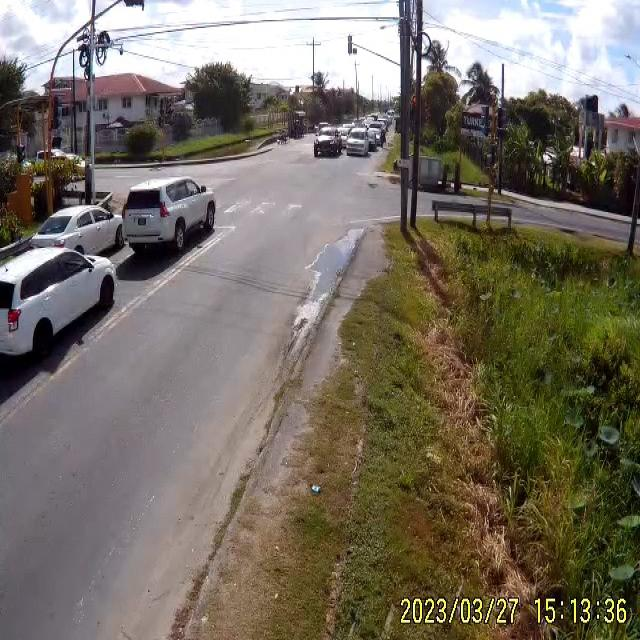car: (0, 240, 119, 375), (121, 176, 216, 258), (32, 204, 124, 256), (313, 135, 341, 158), (342, 133, 368, 155), (366, 125, 386, 148)
